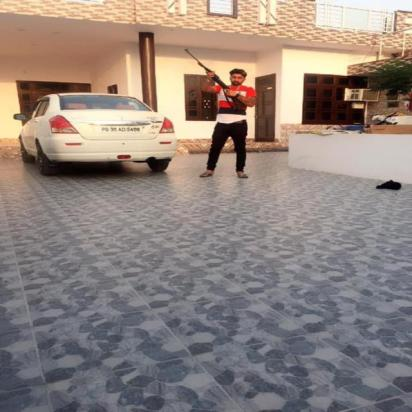Gun: (182, 48, 248, 112)
